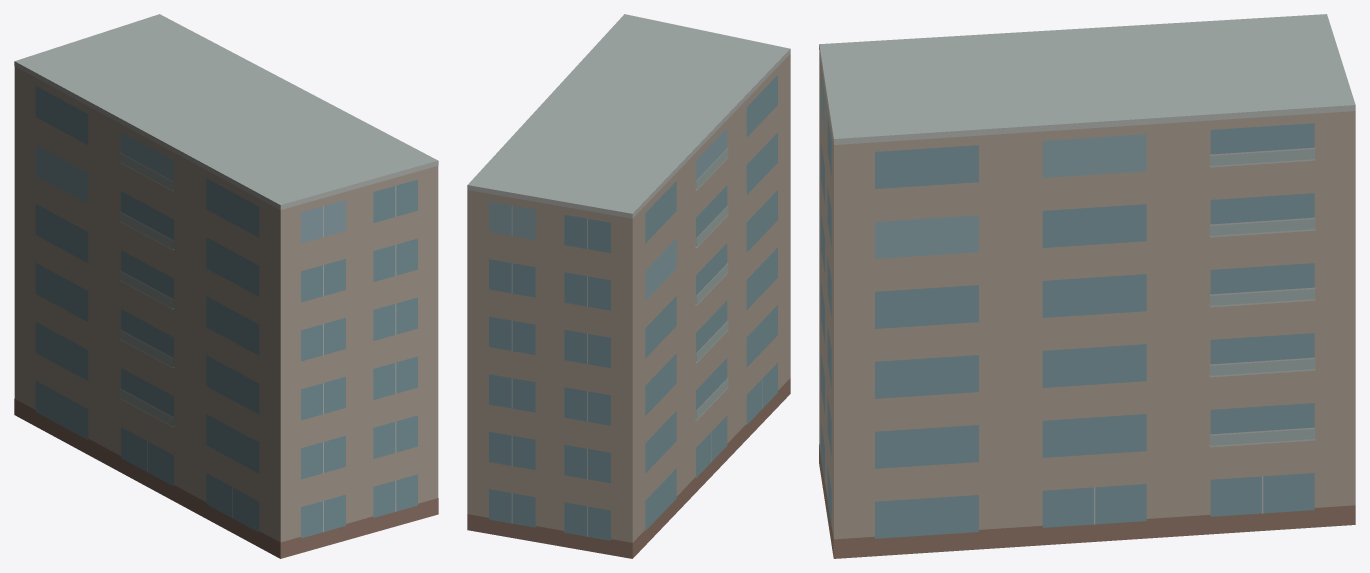
The model's file is survey-upis-32730014.glb.
3 views of the same model, side by side, from view 1: azimuth 30°, elevation 25°; view 2: azimuth 150°, elevation 25°; view 3: azimuth 270°, elevation 25° (orthographic). The views are drawn at different scales.
Parts seen in each view (by area): view 1: survey-upis-32730014.tmp; view 2: survey-upis-32730014.tmp; view 3: survey-upis-32730014.tmp.
Part boxes in pixels (x1=…): survey-upis-32730014.tmp: x1=14, y1=14, x2=438, y2=558; survey-upis-32730014.tmp: x1=467, y1=14, x2=790, y2=558; survey-upis-32730014.tmp: x1=819, y1=14, x2=1355, y2=558.
Bounding box in the file's own units: 10.97 × 17.15 × 19.87.
